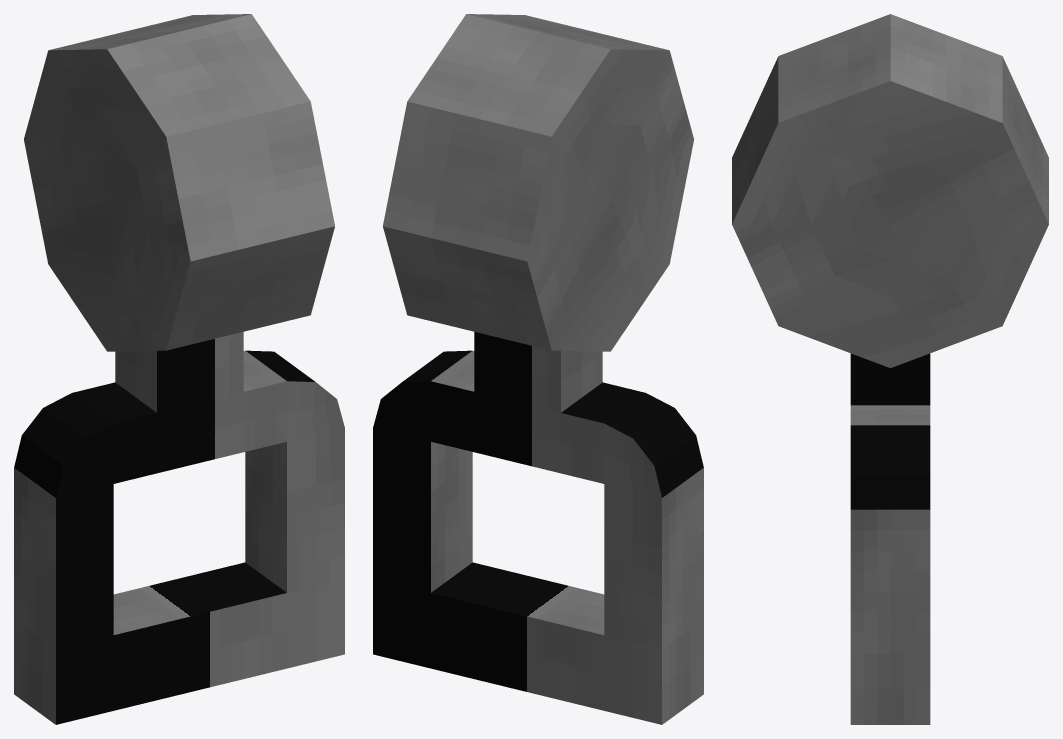
File: golem_legs_wheel.obj
3 renders of one model, left to right at view 1: azimuth 30°, elevation 25°; view 2: azimuth 150°, elevation 25°; view 3: azimuth 270°, elevation 25°, orthographic. The views are drawn at different scales.
Parts seen in each view (by area): view 1: frame, wheel; view 2: frame, wheel; view 3: wheel, frame.
Part boxes in pixels (bbox=[...]): frame: bbox=[14, 332, 344, 724]; wheel: bbox=[24, 14, 334, 351]; frame: bbox=[373, 332, 703, 724]; wheel: bbox=[383, 14, 693, 351]; wheel: bbox=[732, 14, 1048, 367]; frame: bbox=[850, 353, 930, 724].
Size of the model in its own units: 0.25 by 0.5313 by 0.25.
